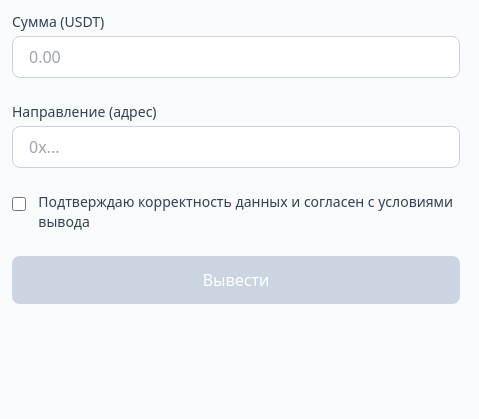
Scenario: WithdrawForm › 409 conflict: shows understandable message
The width and height of the screenshot is (479, 419).
In the field labelled "Сумма (USDT)": (236, 57) x1=12 y1=36 x2=460 y2=78, type "100"
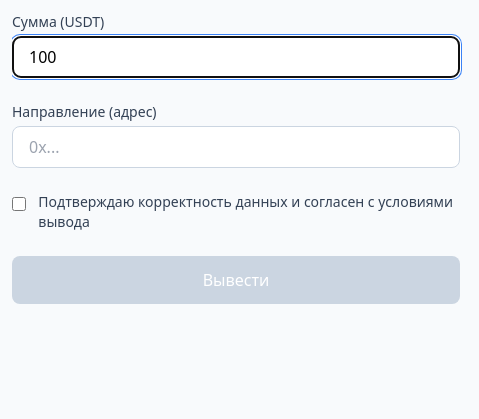
In the field labelled "Направление (адрес)": (236, 147) x1=12 y1=126 x2=460 y2=168, type "0xabc"
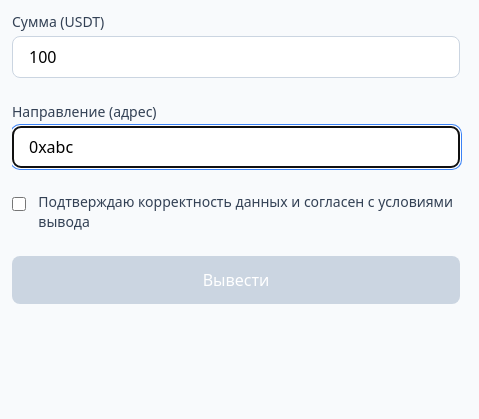
Click the checkbox labelled "Подтверждаю": (19, 204) x1=12 y1=196 x2=26 y2=212
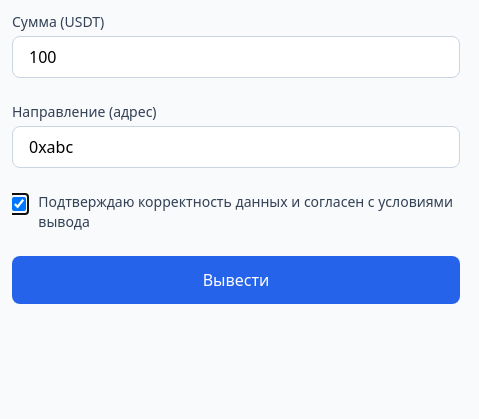
Click the button "Вывести": (236, 280) x1=12 y1=256 x2=460 y2=304
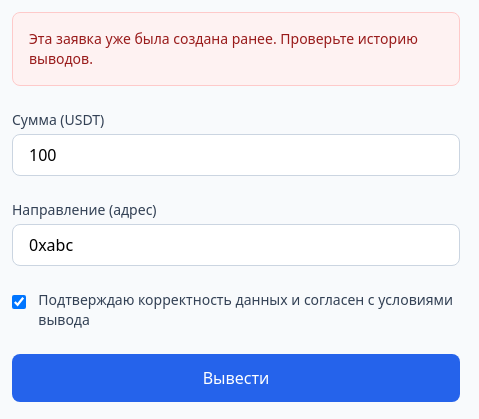
Expected: the message reads "Эта заявка уже была создана ранее. Проверьте историю выводов.", x1=29 y1=29 x2=418 y2=68
